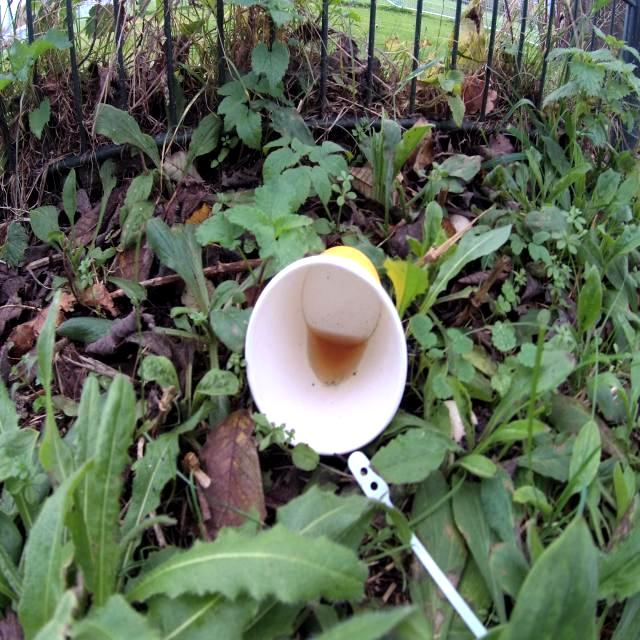Coffee Cup: (241, 242, 409, 458)
